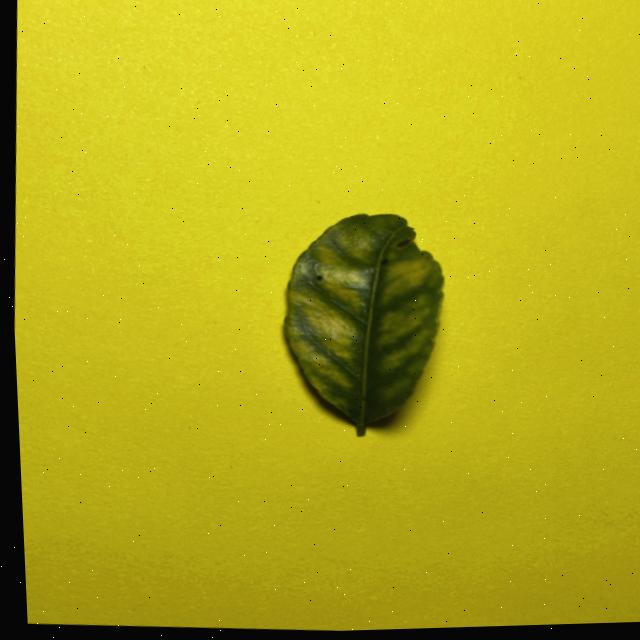greening: (284, 213, 442, 435)
